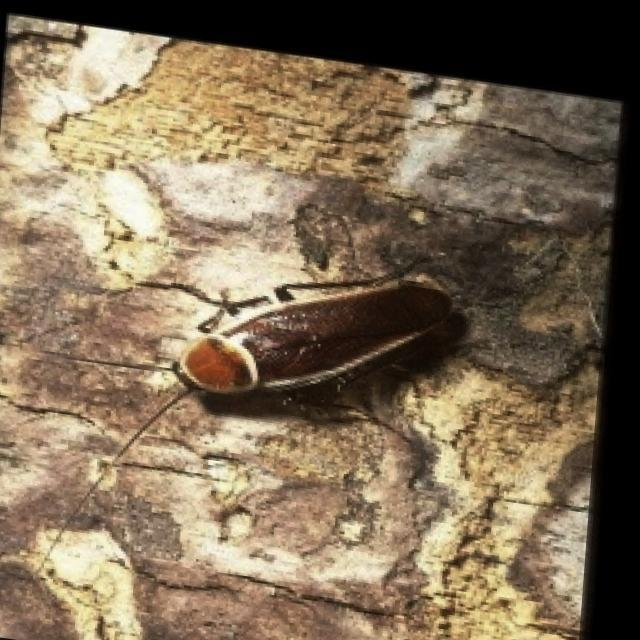cockroach: (132, 254, 496, 442)
